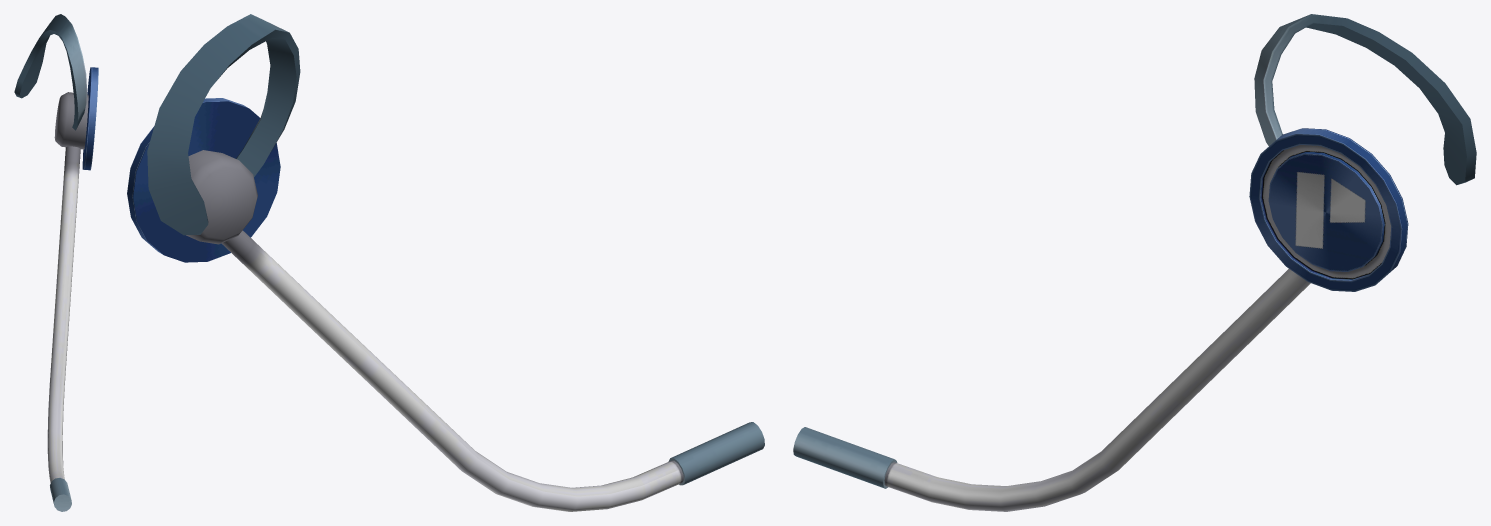
The model's file is EntrainingIntercomShinobu.fbx.
3 views of the same model, side by side, from view 1: azimuth 30°, elevation 25°; view 2: azimuth 150°, elevation 25°; view 3: azimuth 270°, elevation 25° (orthographic). The views are drawn at different scales.
Visible parts, largest first — view 1: EntrainingIntercomShinobu; view 2: EntrainingIntercomShinobu; view 3: EntrainingIntercomShinobu.
Boxes of the visible parts, bbox=[...] form: EntrainingIntercomShinobu: bbox=[14, 14, 98, 511]; EntrainingIntercomShinobu: bbox=[127, 14, 764, 511]; EntrainingIntercomShinobu: bbox=[793, 14, 1476, 511].
Bounding box in the file's own units: 0.0547 × 0.0844 × 0.0883.
1 material, 1 textured.
